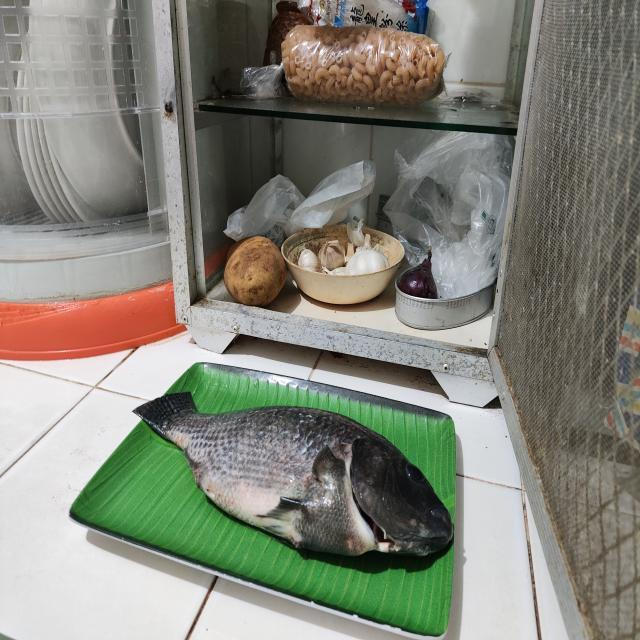fish: (132, 389, 456, 560)
garlic: (296, 234, 388, 278)
onion: (398, 247, 438, 302)
potato: (222, 234, 287, 308)
